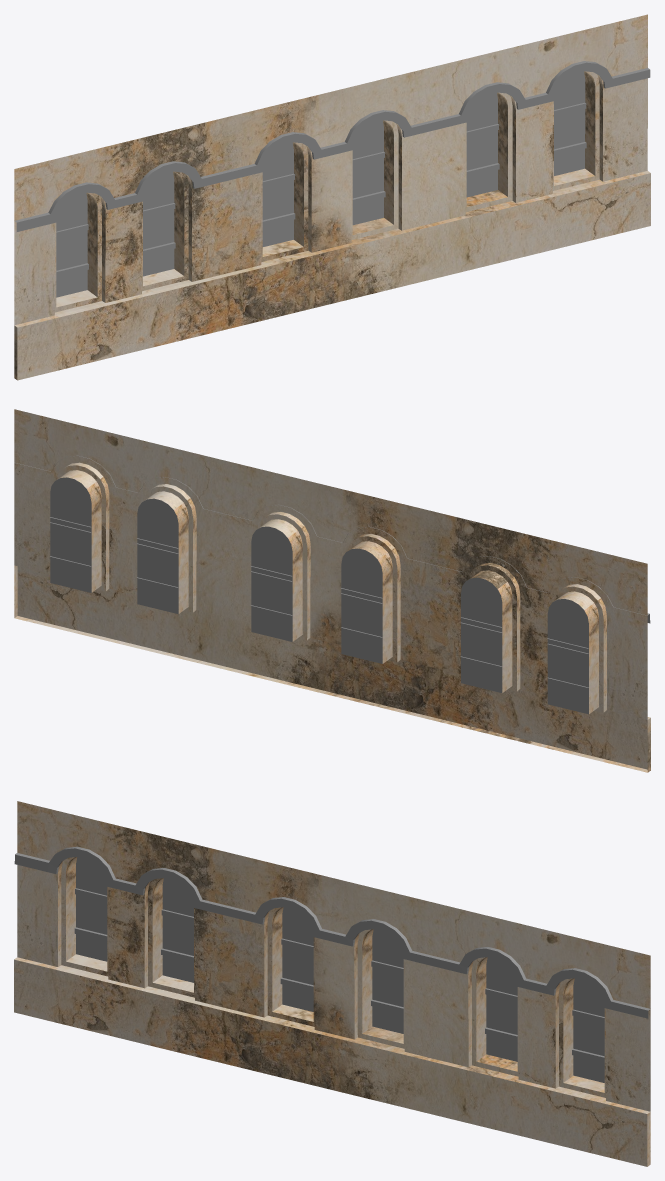
The model's file is Batiment_2_six_fenetre.FBX.
The picture shows the model from 3 angles, top to bottom: view 1: azimuth 30°, elevation 25°; view 2: azimuth 150°, elevation 25°; view 3: azimuth 330°, elevation 25°; orthographic projection.
Visible parts, largest first — view 1: Object016; view 2: Object016; view 3: Object016.
Boxes of the visible parts, <box> form: Object016: <box>14,14,650,380</box>; Object016: <box>14,409,650,772</box>; Object016: <box>14,801,650,1166</box>.
Size of the model in its own units: 530 by 25.01 by 167.
3 materials, 1 textured.
